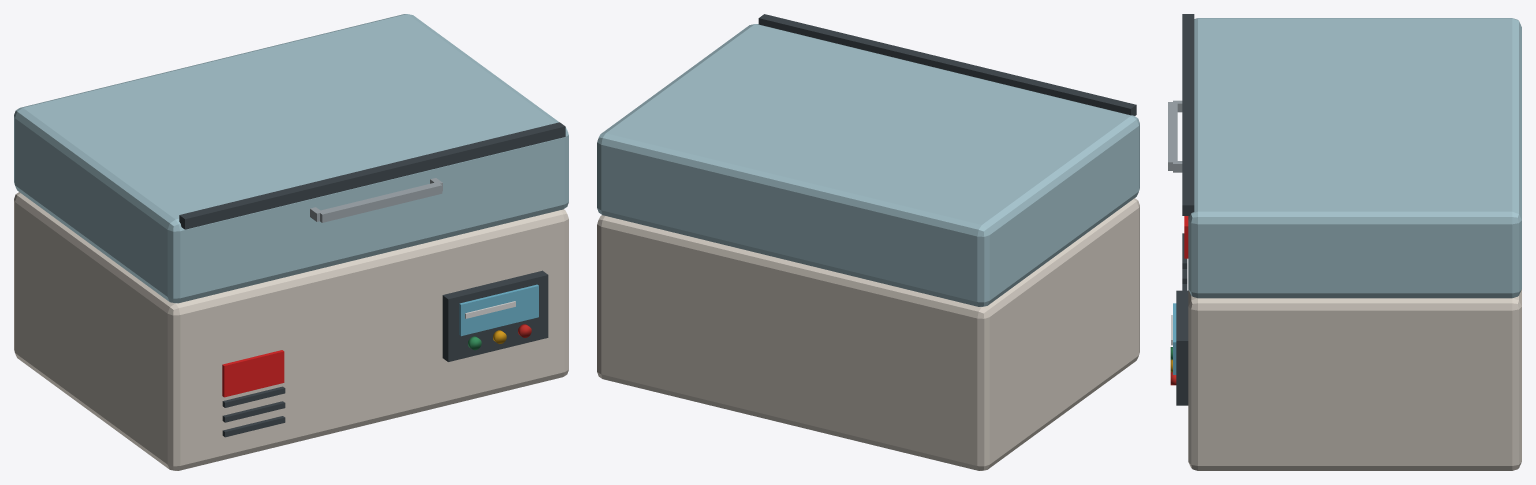
File: m_laser.glb
3 views of the same model, side by side, from view 1: azimuth 30°, elevation 25°; view 2: azimuth 150°, elevation 25°; view 3: azimuth 270°, elevation 25° (orthographic). The views are drawn at different scales.
Visible parts, largest first — view 1: m_laser; view 2: m_laser; view 3: m_laser.
Part boxes in pixels (x1,y1,x2,y2): m_laser: [14, 14, 568, 470]; m_laser: [597, 14, 1139, 470]; m_laser: [1168, 14, 1521, 470].
Size of the model in its own units: 0.4 by 0.245 by 0.297.
